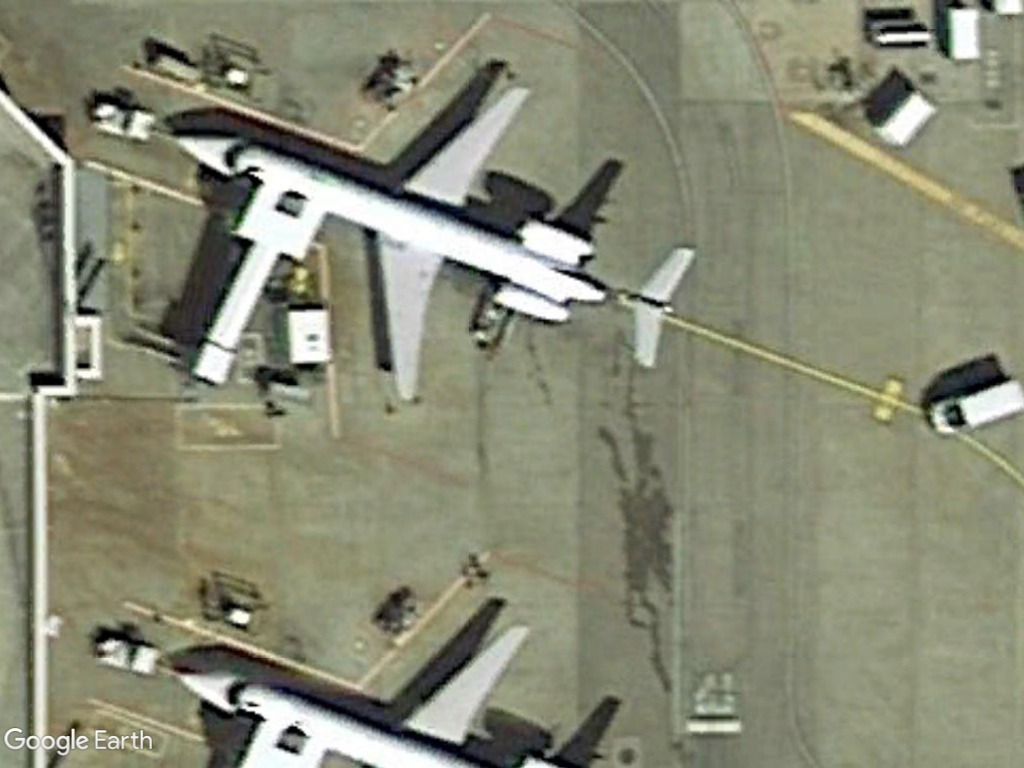chartered: (164, 79, 705, 411)
van: (927, 373, 1024, 440)
